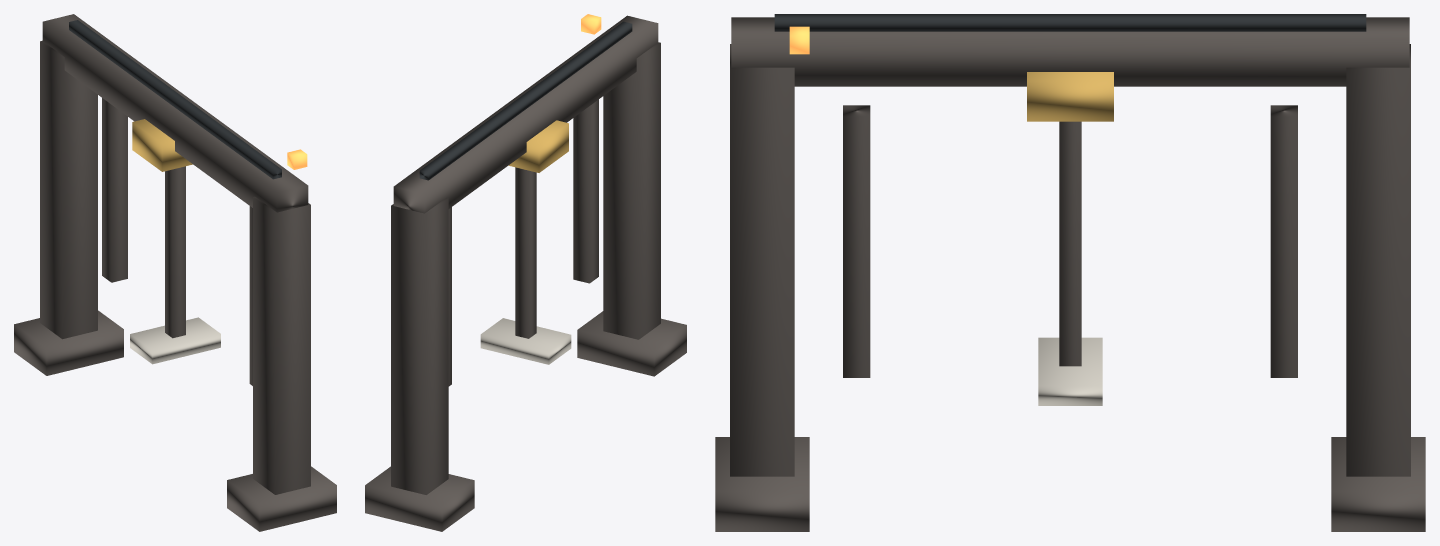
Rendered from solar-yard-gantry-crane-lod1.glb.
The picture shows the model from 3 angles, left to right: view 1: azimuth 30°, elevation 25°; view 2: azimuth 150°, elevation 25°; view 3: azimuth 270°, elevation 25°; orthographic projection. The views are drawn at different scales.
Visible parts, largest first — view 1: solar-yard-gantry-crane-leg-right, solar-yard-gantry-crane-leg-left, solar-yard-gantry-crane-beam, solar-yard-gantry-crane-brace-left, solar-yard-gantry-crane-foot-left, solar-yard-gantry-crane-foot-right, solar-yard-gantry-crane-cable-run, solar-yard-gantry-crane-hook, solar-yard-gantry-crane-loadbar, solar-yard-gantry-crane-trolley-carriage, solar-yard-gantry-crane-brace-right; view 2: solar-yard-gantry-crane-leg-left, solar-yard-gantry-crane-leg-right, solar-yard-gantry-crane-beam, solar-yard-gantry-crane-brace-right, solar-yard-gantry-crane-foot-right, solar-yard-gantry-crane-foot-left, solar-yard-gantry-crane-hook, solar-yard-gantry-crane-cable-run, solar-yard-gantry-crane-loadbar, solar-yard-gantry-crane-trolley-carriage, solar-yard-gantry-crane-brace-left; view 3: solar-yard-gantry-crane-beam, solar-yard-gantry-crane-leg-left, solar-yard-gantry-crane-leg-right, solar-yard-gantry-crane-cable-run, solar-yard-gantry-crane-brace-left, solar-yard-gantry-crane-brace-right, solar-yard-gantry-crane-foot-left, solar-yard-gantry-crane-foot-right, solar-yard-gantry-crane-hook, solar-yard-gantry-crane-trolley-carriage, solar-yard-gantry-crane-loadbar.
Boxes of the visible parts, bbox=[...] form: solar-yard-gantry-crane-leg-right: bbox=[253, 196, 310, 494]; solar-yard-gantry-crane-leg-left: bbox=[40, 40, 97, 339]; solar-yard-gantry-crane-beam: bbox=[42, 14, 308, 212]; solar-yard-gantry-crane-brace-left: bbox=[102, 98, 127, 282]; solar-yard-gantry-crane-foot-left: bbox=[14, 310, 123, 375]; solar-yard-gantry-crane-foot-right: bbox=[227, 466, 336, 531]; solar-yard-gantry-crane-cable-run: bbox=[69, 20, 281, 179]; solar-yard-gantry-crane-hook: bbox=[165, 166, 185, 338]; solar-yard-gantry-crane-loadbar: bbox=[130, 317, 220, 364]; solar-yard-gantry-crane-trolley-carriage: bbox=[132, 119, 192, 171]; solar-yard-gantry-crane-brace-right: bbox=[249, 206, 252, 385]; solar-yard-gantry-crane-leg-left: bbox=[391, 197, 448, 494]; solar-yard-gantry-crane-leg-right: bbox=[603, 42, 660, 339]; solar-yard-gantry-crane-beam: bbox=[393, 15, 658, 213]; solar-yard-gantry-crane-brace-right: bbox=[573, 99, 598, 283]; solar-yard-gantry-crane-foot-right: bbox=[577, 311, 686, 376]; solar-yard-gantry-crane-foot-left: bbox=[365, 466, 474, 531]; solar-yard-gantry-crane-hook: bbox=[515, 167, 536, 338]; solar-yard-gantry-crane-cable-run: bbox=[419, 21, 632, 180]; solar-yard-gantry-crane-loadbar: bbox=[480, 318, 571, 364]; solar-yard-gantry-crane-trolley-carriage: bbox=[508, 120, 568, 172]; solar-yard-gantry-crane-brace-left: bbox=[448, 207, 451, 386]; solar-yard-gantry-crane-beam: bbox=[731, 17, 1409, 86]; solar-yard-gantry-crane-leg-left: bbox=[1346, 44, 1410, 476]; solar-yard-gantry-crane-leg-right: bbox=[730, 44, 794, 476]; solar-yard-gantry-crane-cable-run: bbox=[774, 14, 1366, 31]; solar-yard-gantry-crane-brace-left: bbox=[1270, 105, 1297, 377]; solar-yard-gantry-crane-brace-right: bbox=[843, 105, 870, 377]; solar-yard-gantry-crane-foot-left: bbox=[1331, 437, 1425, 531]; solar-yard-gantry-crane-foot-right: bbox=[715, 437, 809, 531]; solar-yard-gantry-crane-hook: bbox=[1059, 121, 1081, 366]; solar-yard-gantry-crane-trolley-carriage: bbox=[1027, 72, 1113, 121]; solar-yard-gantry-crane-loadbar: bbox=[1038, 337, 1102, 405].
Size of the model in its own units: 1.04 by 4.38 by 5.72.
